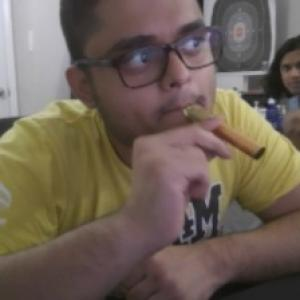Golden-E-Ciggirate: (185, 104, 267, 164)
